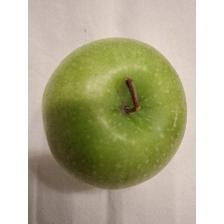Apfel: (40, 36, 190, 192)
